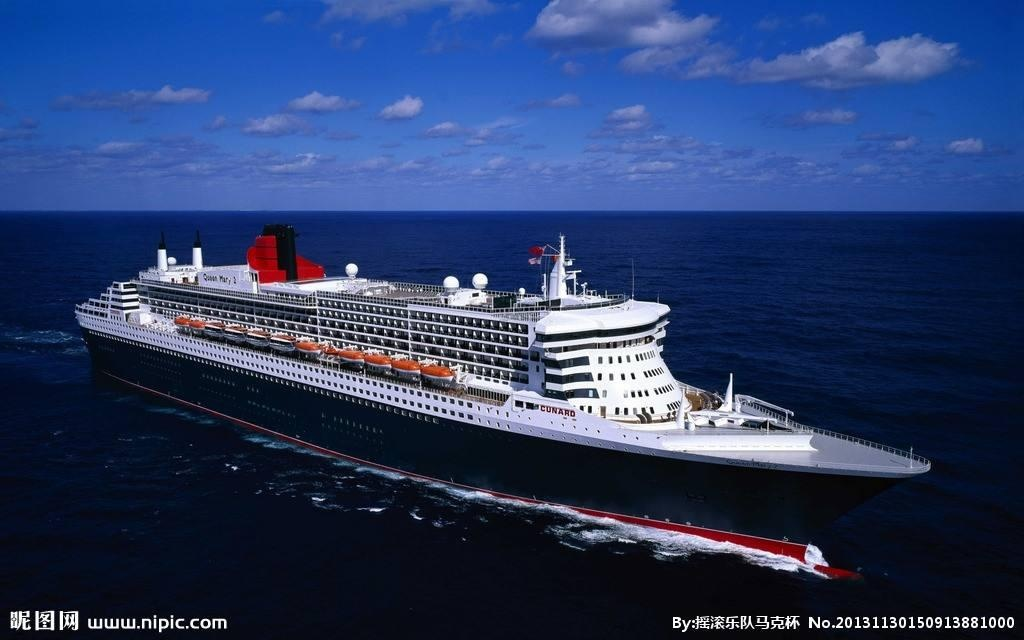youlun: (71, 218, 931, 553)
